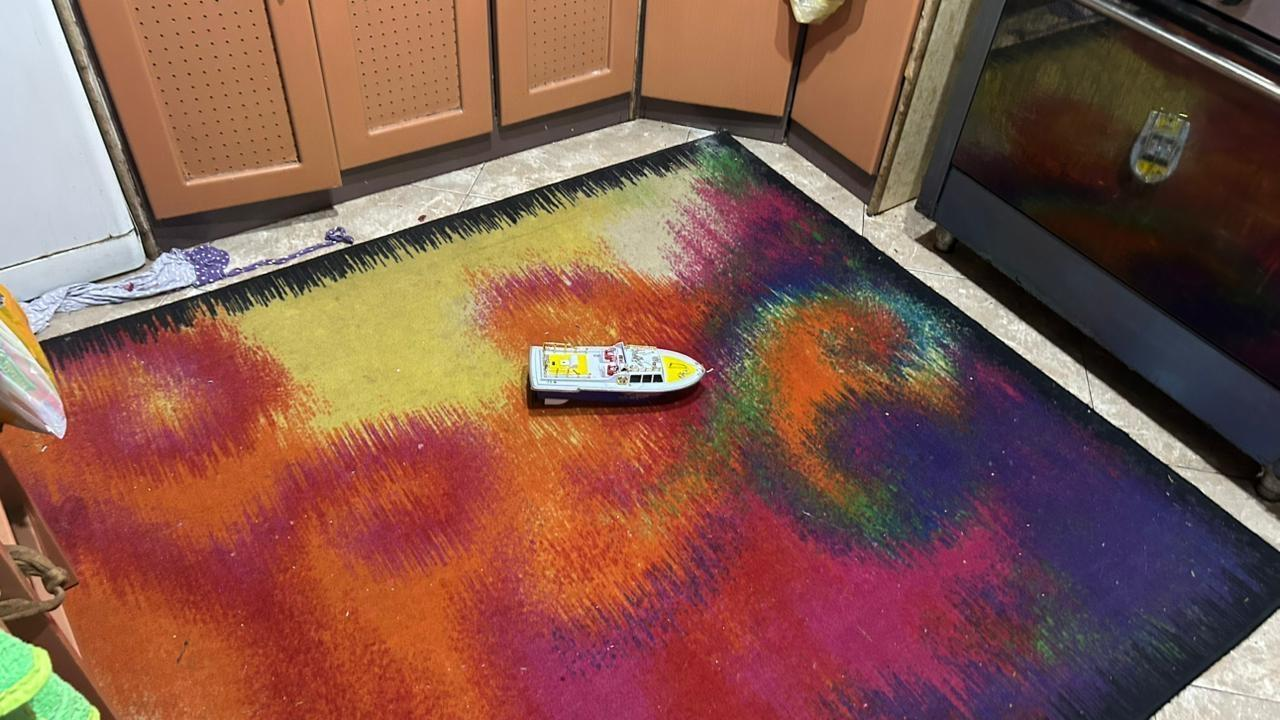Boat: (526, 337, 712, 412)
